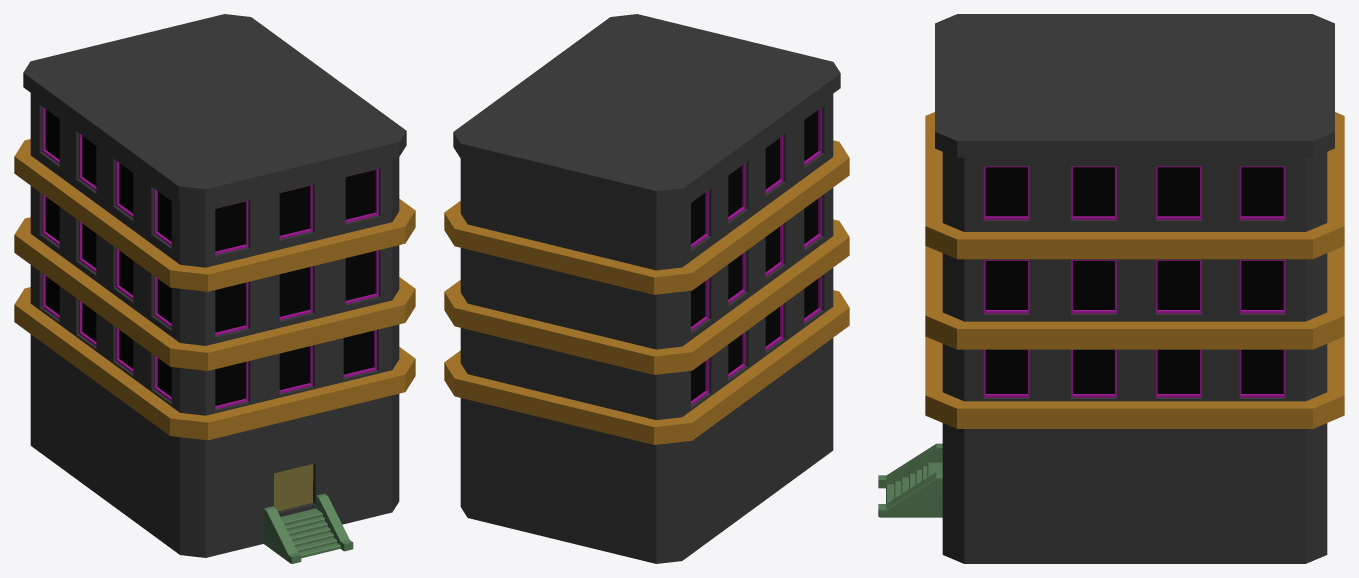
The model's file is Building_Complex.fbx.
The picture shows the model from 3 angles, left to right: view 1: azimuth 30°, elevation 25°; view 2: azimuth 150°, elevation 25°; view 3: azimuth 270°, elevation 25°; orthographic projection. The views are drawn at different scales.
Visible parts, largest first — view 1: pCube54, pCube11; view 2: pCube54; view 3: pCube54, pCube11.
Boxes of the visible parts, box(x1,y1,x2,y2) form: pCube54: box(14, 14, 415, 557); pCube11: box(263, 494, 353, 563); pCube54: box(444, 14, 849, 563); pCube54: box(925, 14, 1344, 563); pCube11: box(878, 443, 942, 517).
Bounding box in the file's own units: 20.56 × 29.78 × 29.58.
